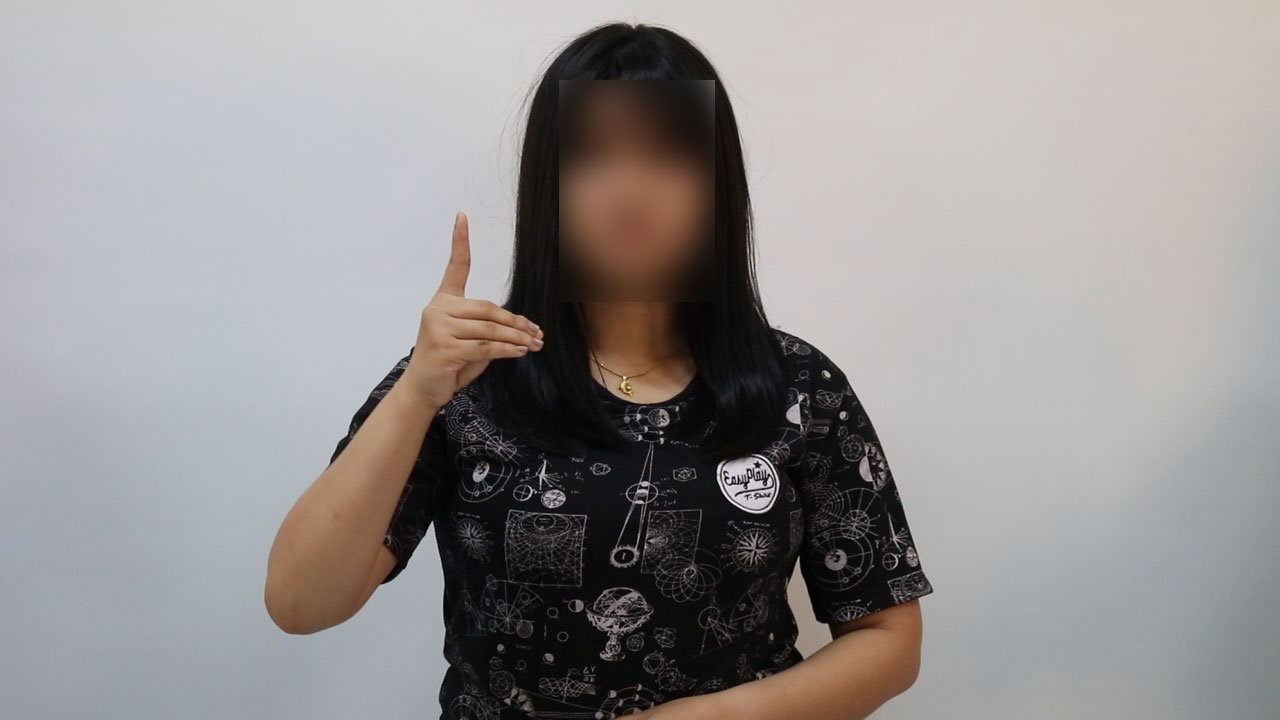dor: (379, 202, 553, 400)
